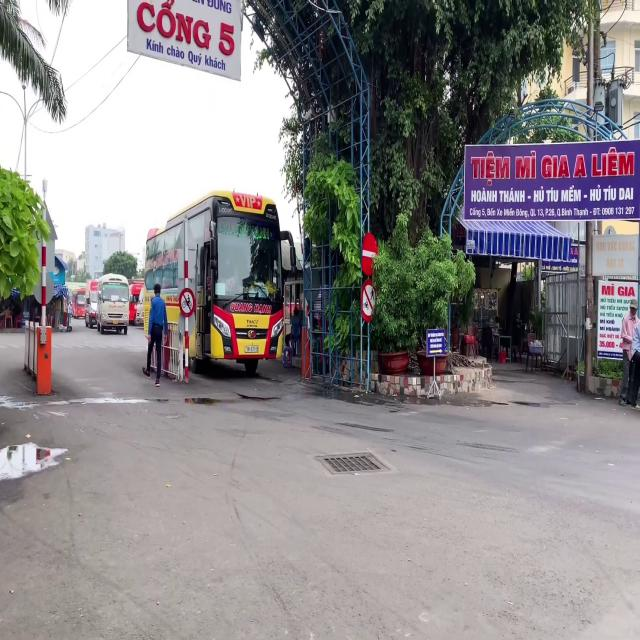bien_trang: (245, 346, 259, 353)
